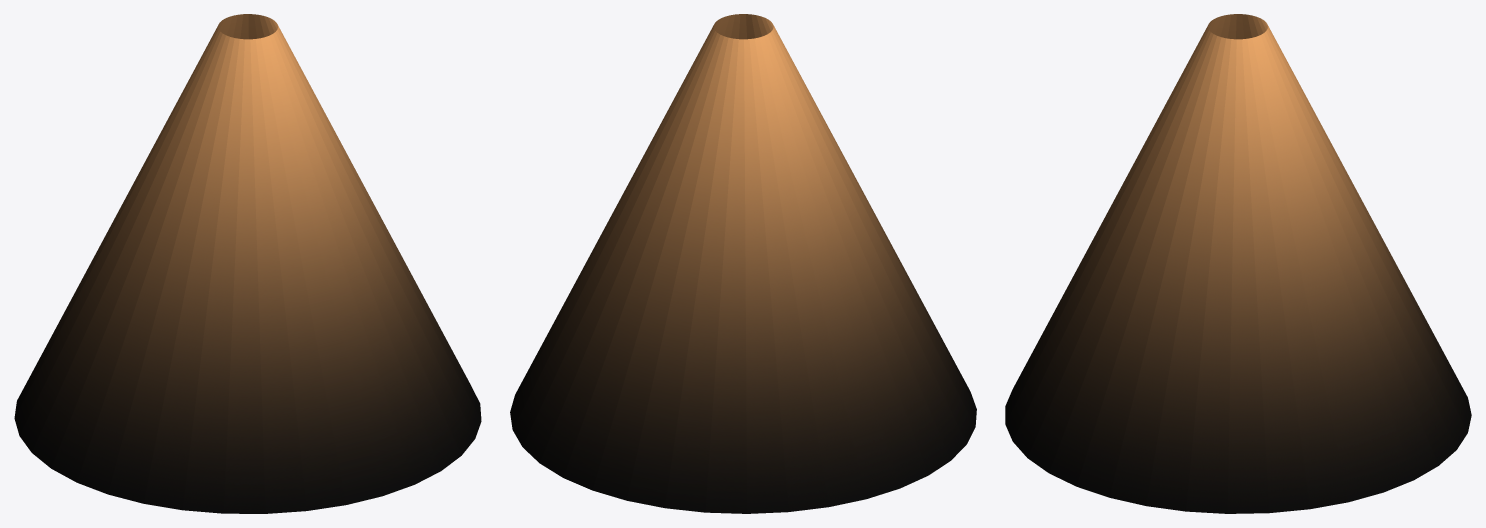
File: lightCone.fbx
3 views of the same model, side by side, from view 1: azimuth 30°, elevation 25°; view 2: azimuth 150°, elevation 25°; view 3: azimuth 270°, elevation 25° (orthographic).
Visible parts, largest first — view 1: Cone; view 2: Cone; view 3: Cone.
Part boxes in pixels (x1,y1,x2,y2): Cone: [14, 14, 481, 513]; Cone: [510, 14, 976, 513]; Cone: [1005, 14, 1471, 513].
Size of the model in its own units: 218 by 200 by 218.
